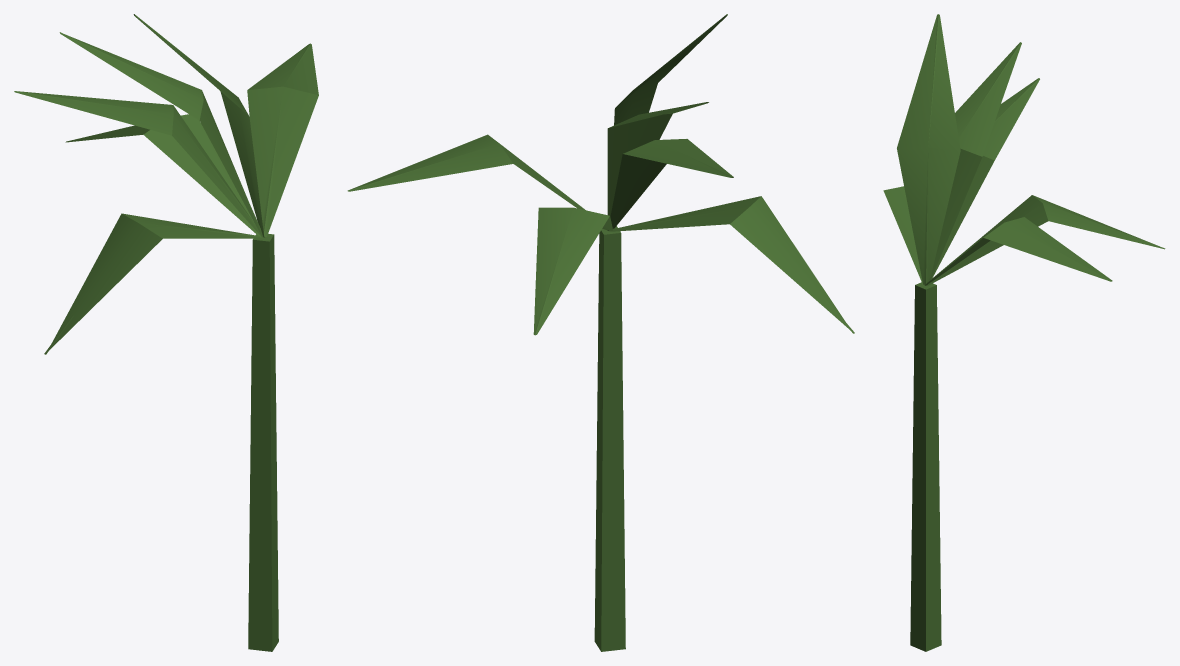
Rendered from banana_chuoi_su.far.glb.
The picture shows the model from 3 angles, left to right: view 1: azimuth 30°, elevation 25°; view 2: azimuth 150°, elevation 25°; view 3: azimuth 270°, elevation 25°; orthographic projection. The views are drawn at different scales.
Visible parts, largest first — view 1: banana_chuoi_su; view 2: banana_chuoi_su; view 3: banana_chuoi_su.
Boxes of the visible parts, box(x1,y1,x2,y2) form: banana_chuoi_su: box(14, 14, 318, 651); banana_chuoi_su: box(347, 14, 854, 651); banana_chuoi_su: box(883, 14, 1165, 651).
Bounding box in the file's own units: 2.75 × 4.5 × 1.99.
